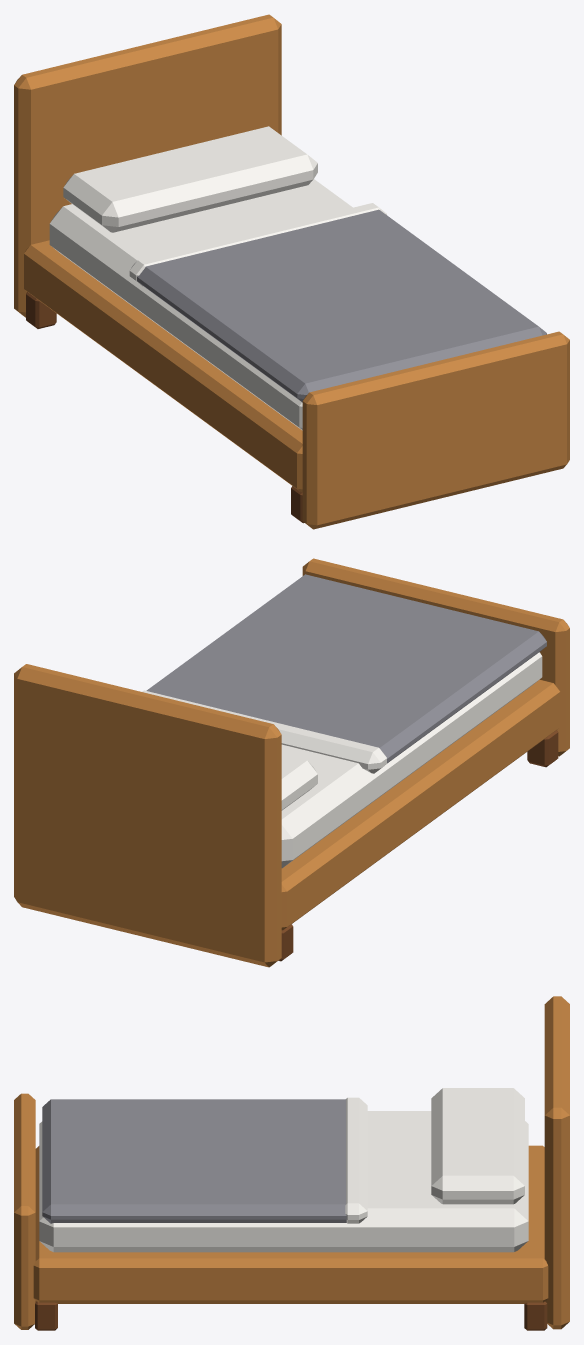
Rendered from GrayBed.fbx.
The picture shows the model from 3 angles, top to bottom: view 1: azimuth 30°, elevation 25°; view 2: azimuth 150°, elevation 25°; view 3: azimuth 270°, elevation 25°; orthographic projection. The views are drawn at different scales.
Parts seen in each view (by area): view 1: GrayBed; view 2: GrayBed; view 3: GrayBed.
Part boxes in pixels (bbox=[...]): GrayBed: bbox=[14, 14, 569, 529]; GrayBed: bbox=[14, 558, 569, 967]; GrayBed: bbox=[14, 996, 569, 1330].
Bounding box in the file's own units: 3.9 × 3.4 × 7.73.
1 material, 1 textured.
